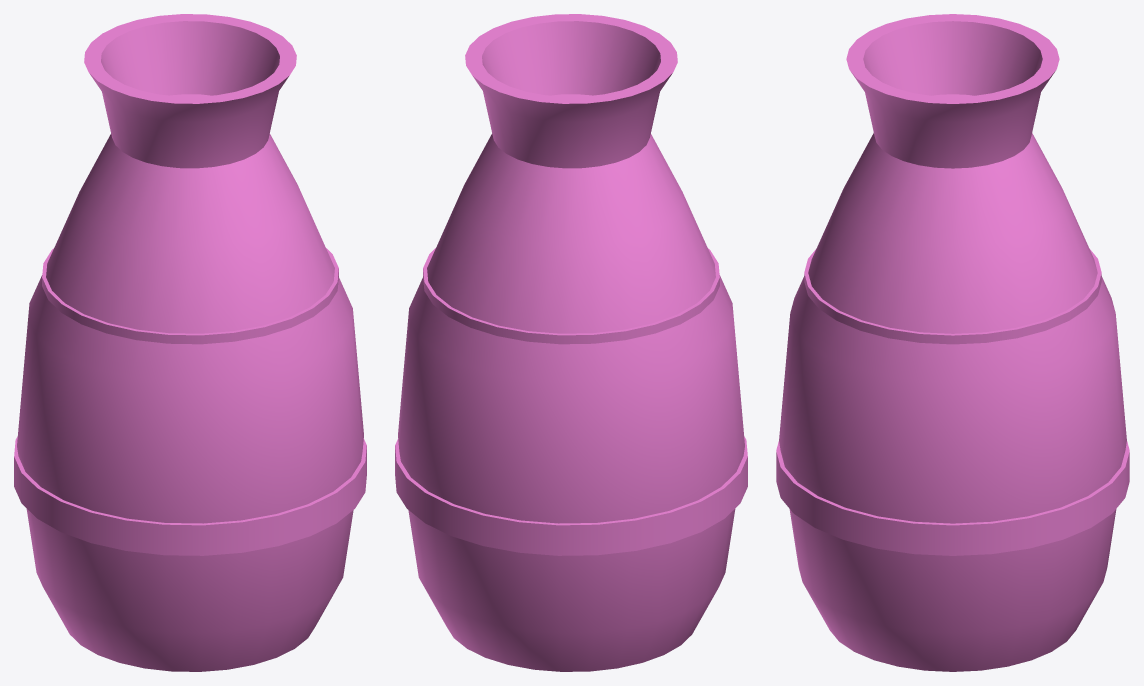
The model's file is Parcel_Vase.fbx.
3 views of the same model, side by side, from view 1: azimuth 30°, elevation 25°; view 2: azimuth 150°, elevation 25°; view 3: azimuth 270°, elevation 25° (orthographic).
Parts seen in each view (by area): view 1: Parcel; view 2: Parcel; view 3: Parcel.
Part boxes in pixels (x1=…): Parcel: x1=14, y1=14, x2=366, y2=671; Parcel: x1=395, y1=14, x2=747, y2=671; Parcel: x1=776, y1=14, x2=1129, y2=671.
Size of the model in its own units: 1.26 by 2.2 by 1.26.
1 material, 1 textured.
